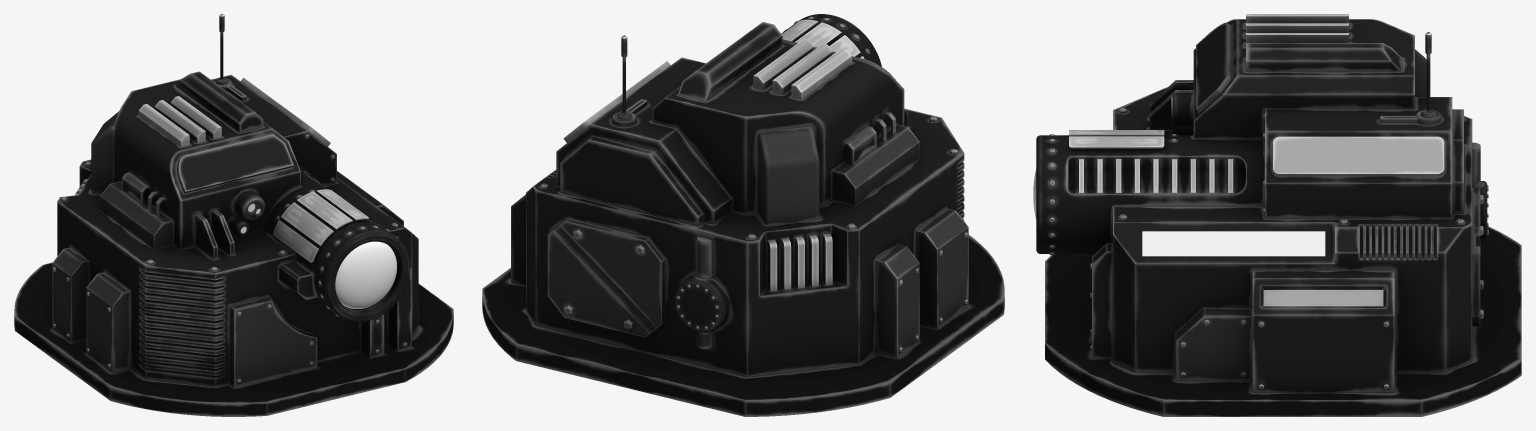
File: projector.fbx
3 renders of one model, left to right at view 1: azimuth 30°, elevation 25°; view 2: azimuth 150°, elevation 25°; view 3: azimuth 270°, elevation 25°, orthographic. The views are drawn at different scales.
Parts seen in each view (by area): view 1: Cube.004; view 2: Cube.004; view 3: Cube.004, Cube.005.
Part boxes in pixels (x1,y1,x2,y2): Cube.004: [14, 14, 453, 416]; Cube.004: [482, 14, 1004, 416]; Cube.004: [1033, 14, 1521, 416]; Cube.005: [1142, 231, 1325, 256].
Bounding box in the file's own units: 177 × 130 × 184.
